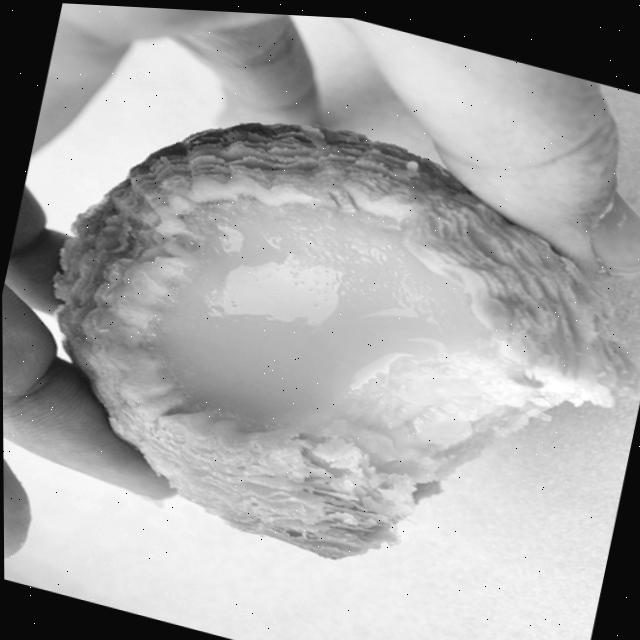炸货点心: (0, 51, 640, 640)
蛋糕甜品: (0, 51, 640, 640)
